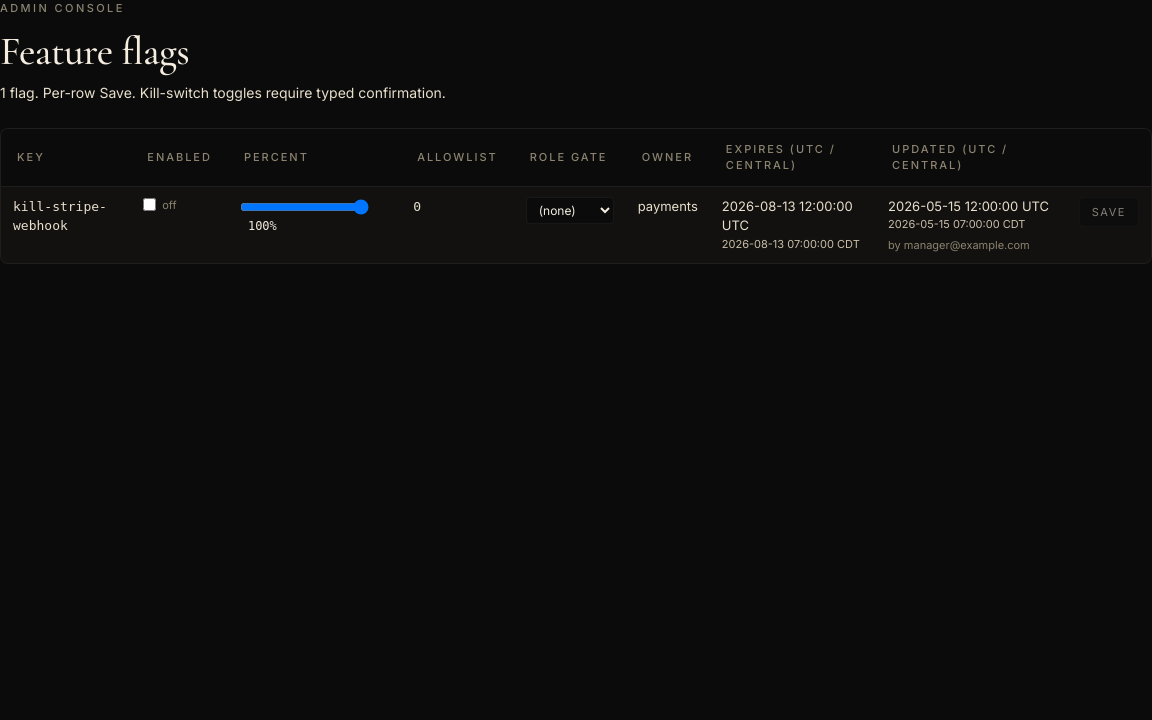
Scenario: flags page — kill-switch typed-confirmation › toggling the enabled checkbox + Save opens the kill-switch dialog
Click the checkbox with test id "flag-enabled-kill-stripe-webhook": (150, 205) [143,198,156,211]
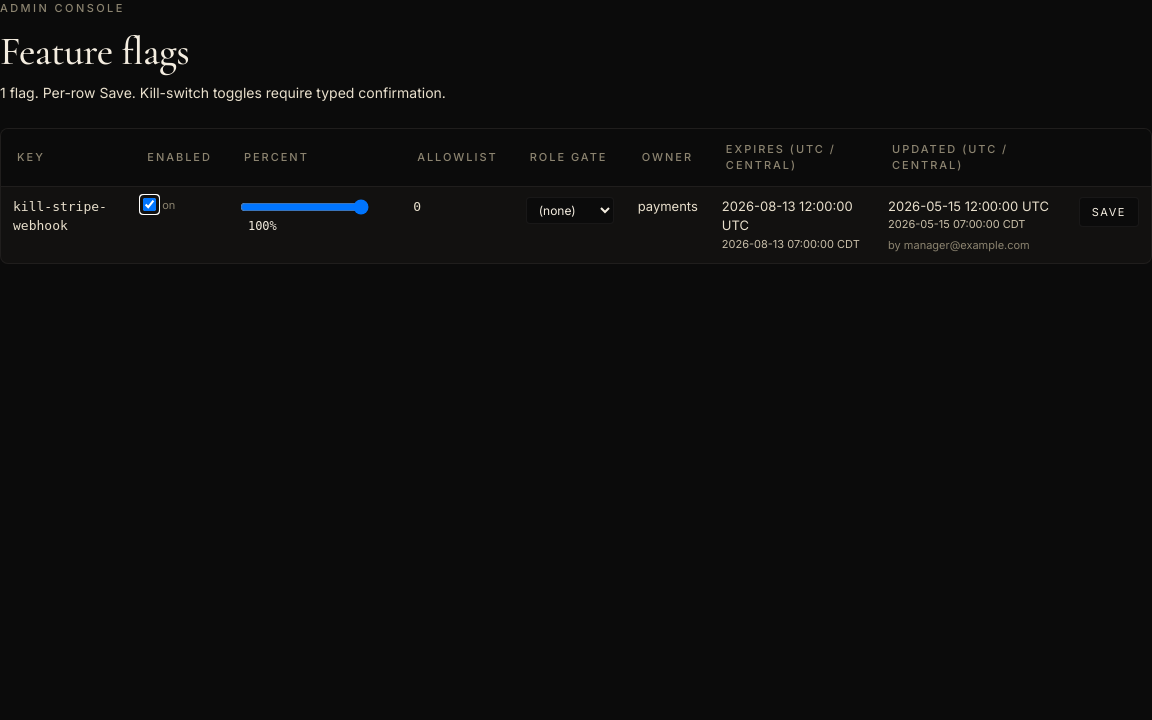
Click Save.
Click the button with test id "flag-save-kill-stripe-webhook": (1109, 212) [1079,197,1139,227]
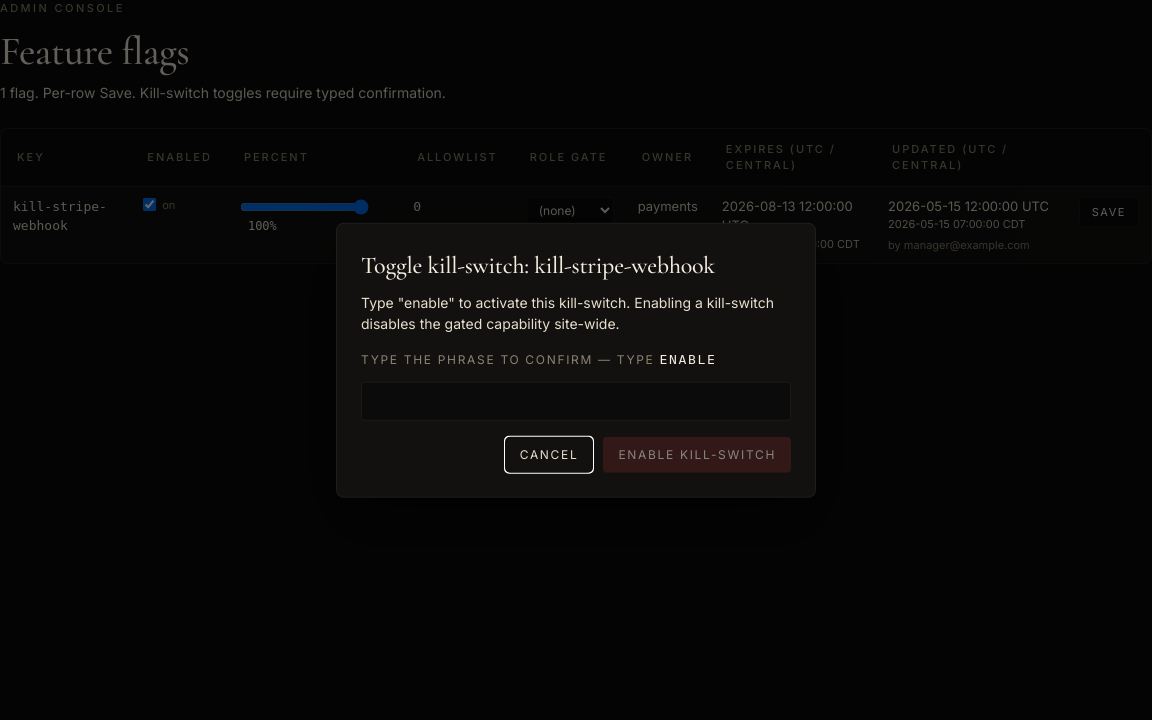
expect the dialog with test id "typed-confirmation-dialog" is shown: met, box [336,223,816,497]
expect the text with test id "typed-confirmation-phrase" reads "enable": met, box [660,352,717,367]
